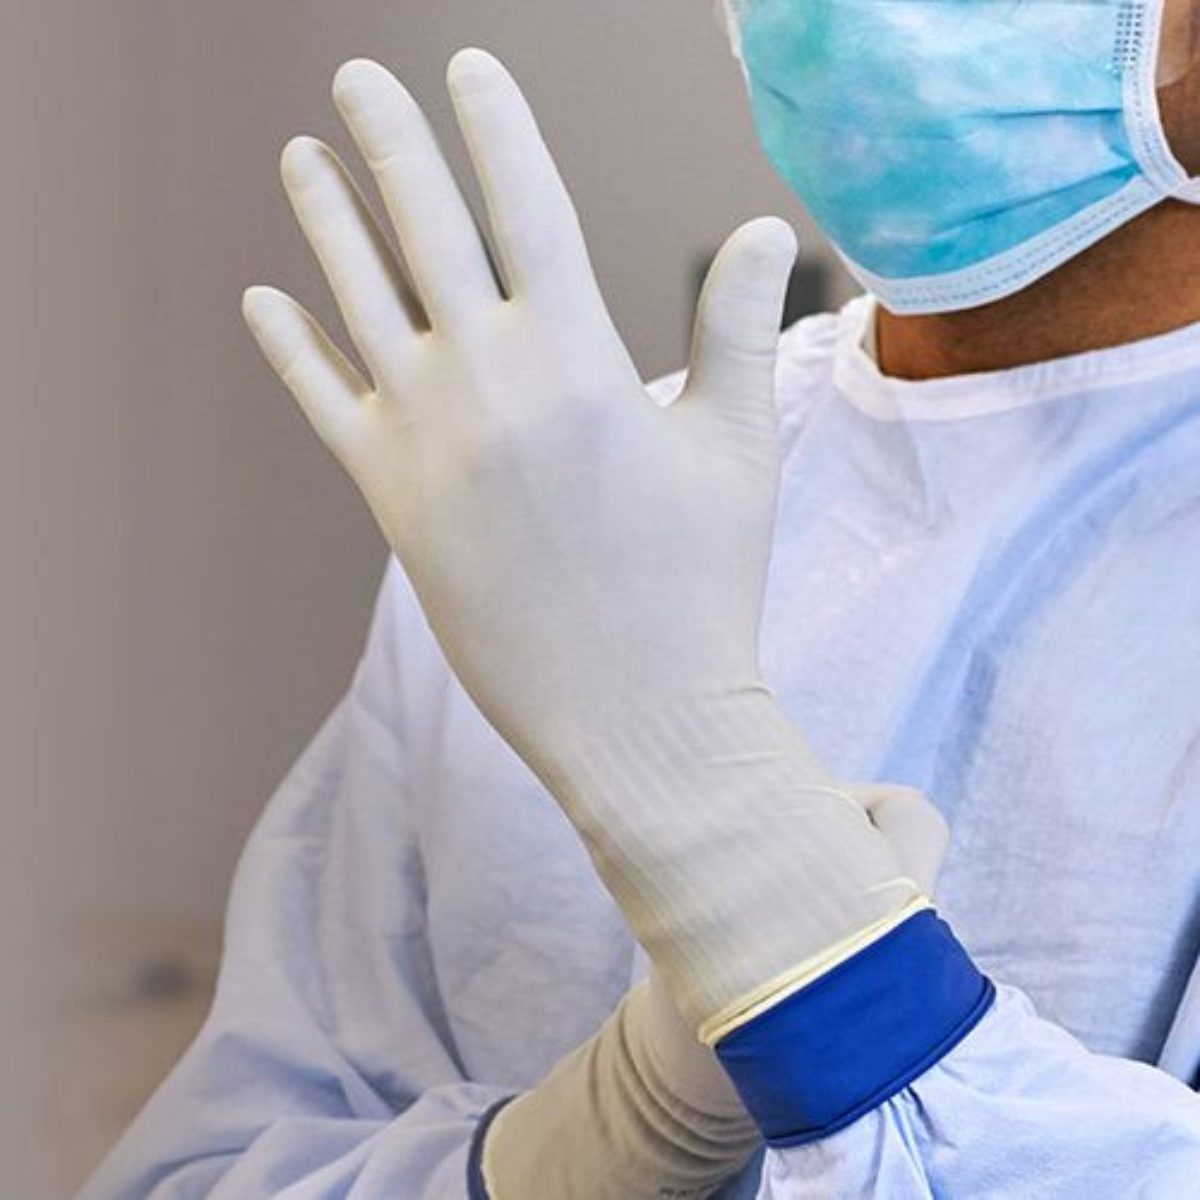Gloves: (222, 37, 840, 921)
